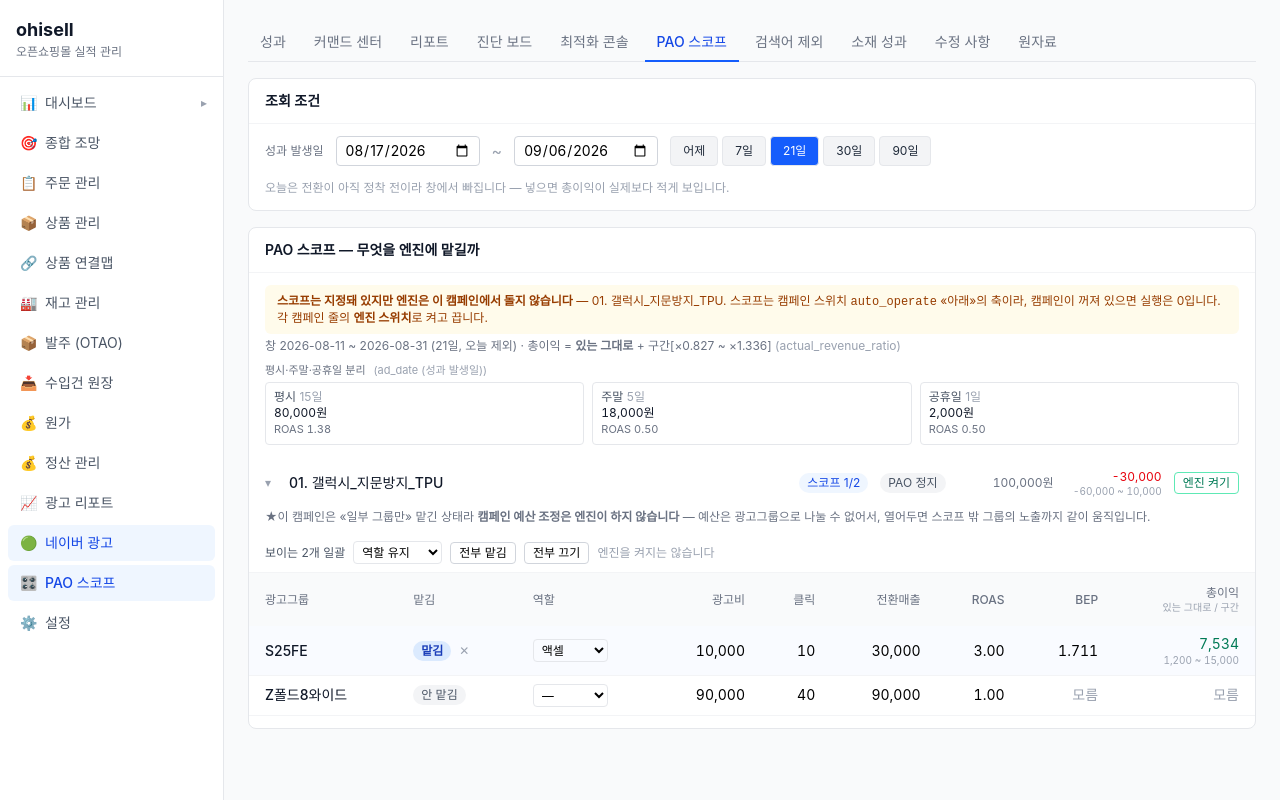
Scenario: H5 — 스코프 캠페인 단위 일괄 지정이 사람에게 닿는다 › BV-3: ★결과 문구가 `changed`를 말한다 — `requested`(2건)가 아니라 1건
Click the button "전부 맡김" at (483,552), box left=450, top=542, right=516, bottom=564
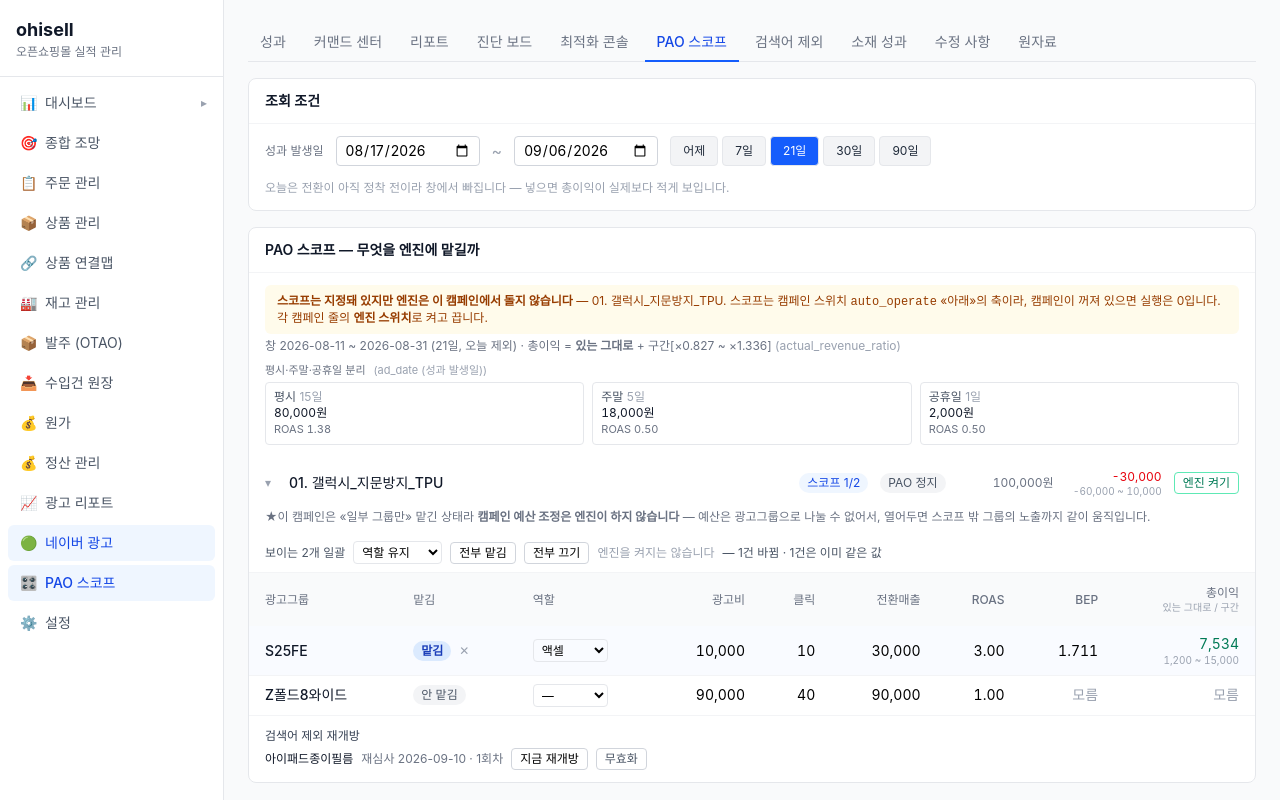
Expected: the text "— 1건 바뀜 · 1건은 이미 같은 값" is shown, left=723, top=544, right=882, bottom=560
